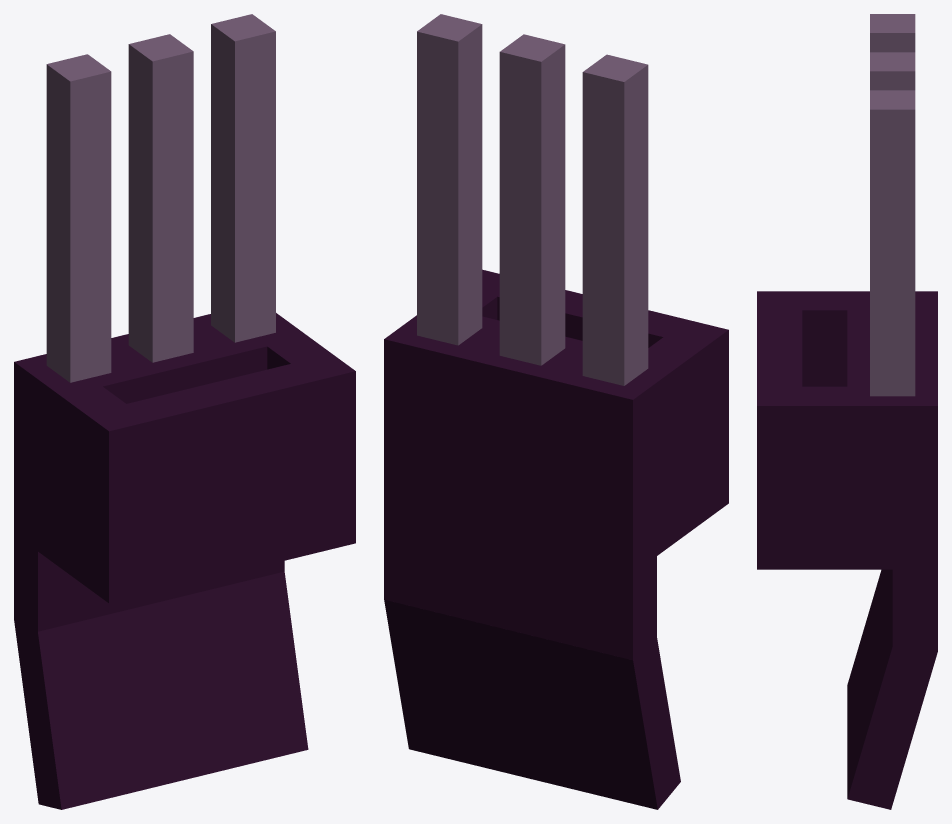
Rendered from HeresyClaw.fbx.
3 renders of one model, left to right at view 1: azimuth 30°, elevation 25°; view 2: azimuth 150°, elevation 25°; view 3: azimuth 270°, elevation 25°, orthographic. The views are drawn at different scales.
Parts seen in each view (by area): view 1: Cube.001, Cube.005, Cube.002, Cube.003; view 2: Cube.001, Cube.005, Cube.002, Cube.003; view 3: Cube.001, Cube.003, Cube.002, Cube.005.
Boxes of the visible parts, x1,y1,x2,y2 form: Cube.001: [14, 313, 355, 809]; Cube.005: [46, 54, 111, 382]; Cube.002: [128, 34, 193, 362]; Cube.003: [211, 14, 275, 342]; Cube.001: [384, 269, 728, 809]; Cube.005: [582, 54, 648, 385]; Cube.002: [499, 34, 565, 365]; Cube.003: [417, 14, 482, 345]; Cube.001: [757, 291, 937, 809]; Cube.003: [870, 90, 915, 396]; Cube.002: [870, 52, 915, 90]; Cube.005: [870, 14, 915, 52].
Bounding box in the file's own units: 60 × 169 × 40.01.
